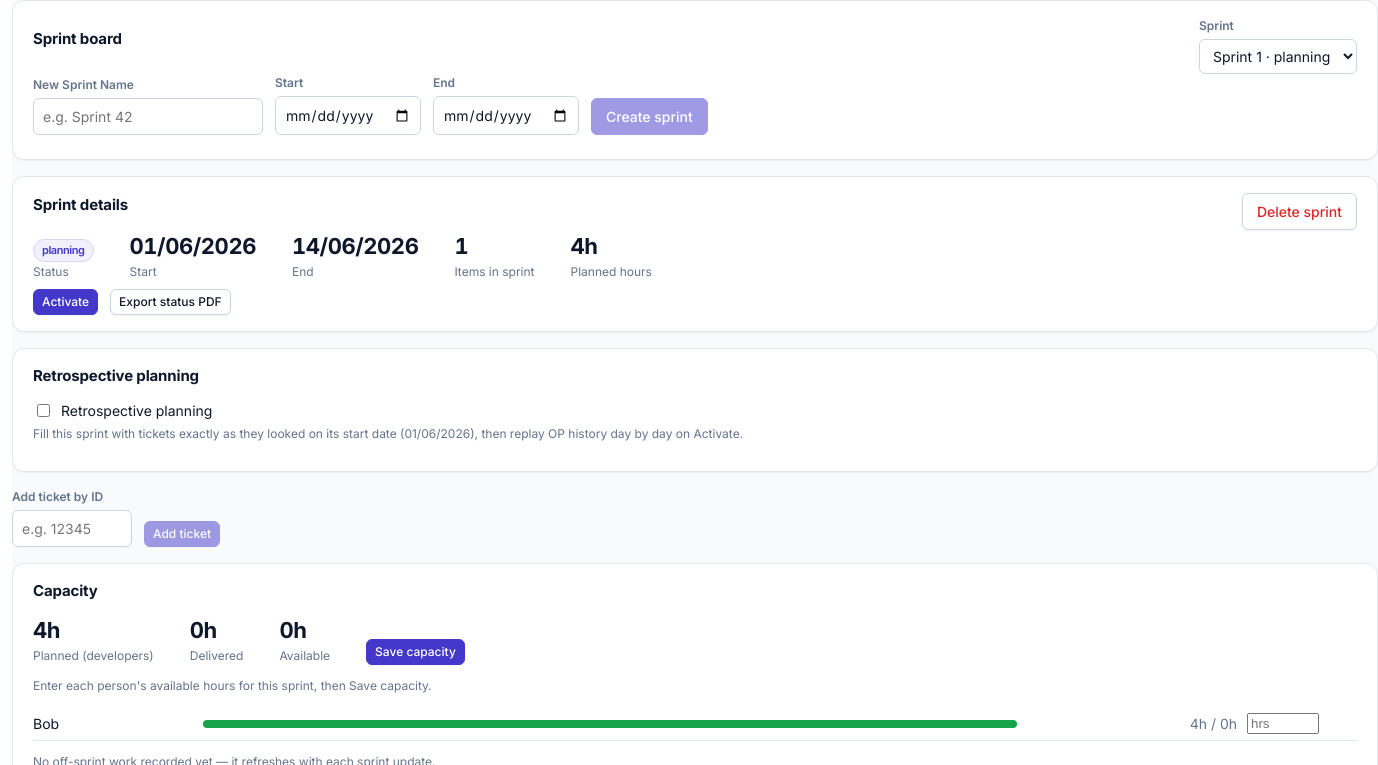
SprintBoardScreen › shows an overload warning when planned exceeds available capacity
Type "2" into the number field named "available hours for Bob" at (1283, 724), box [1247,713,1319,734]
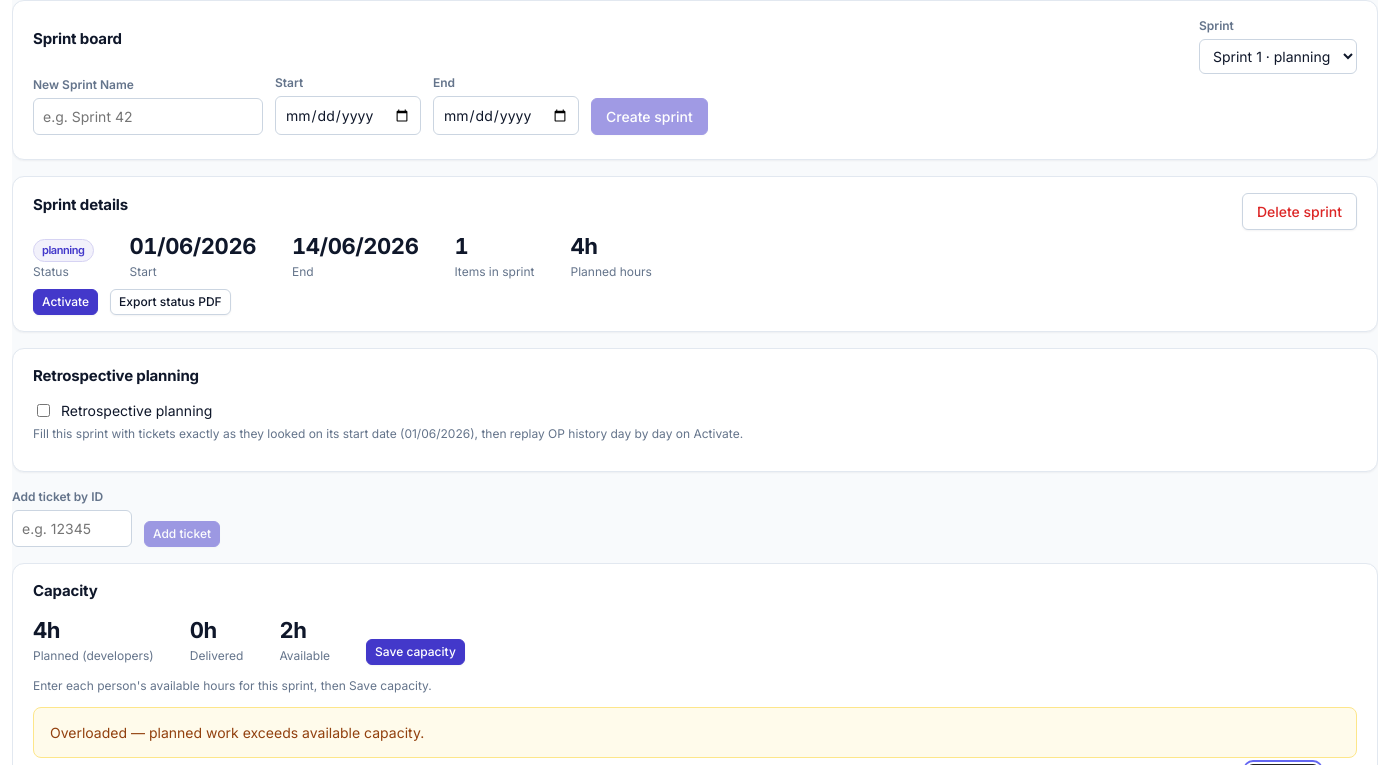
Expected: the text "Overloaded — planned work exceeds available capacity." is shown, [33,707,1357,758]
